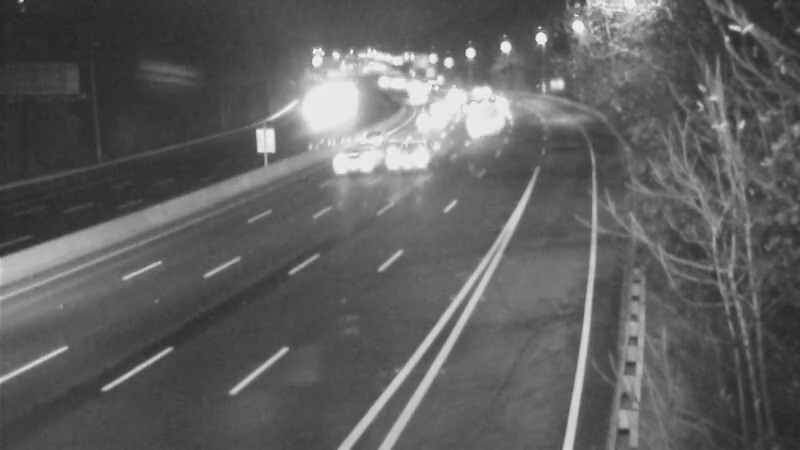vehicle: (375, 112, 455, 192), (316, 120, 396, 200), (391, 74, 441, 124), (398, 94, 448, 144), (455, 100, 505, 150), (355, 107, 405, 157)
